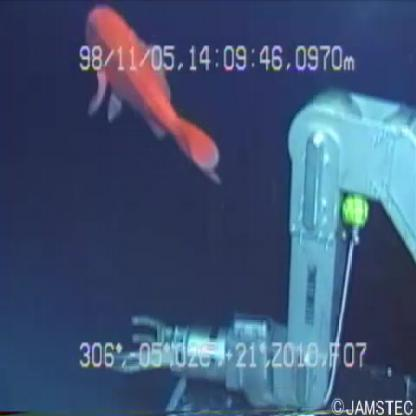Rov: (107, 83, 415, 413)
